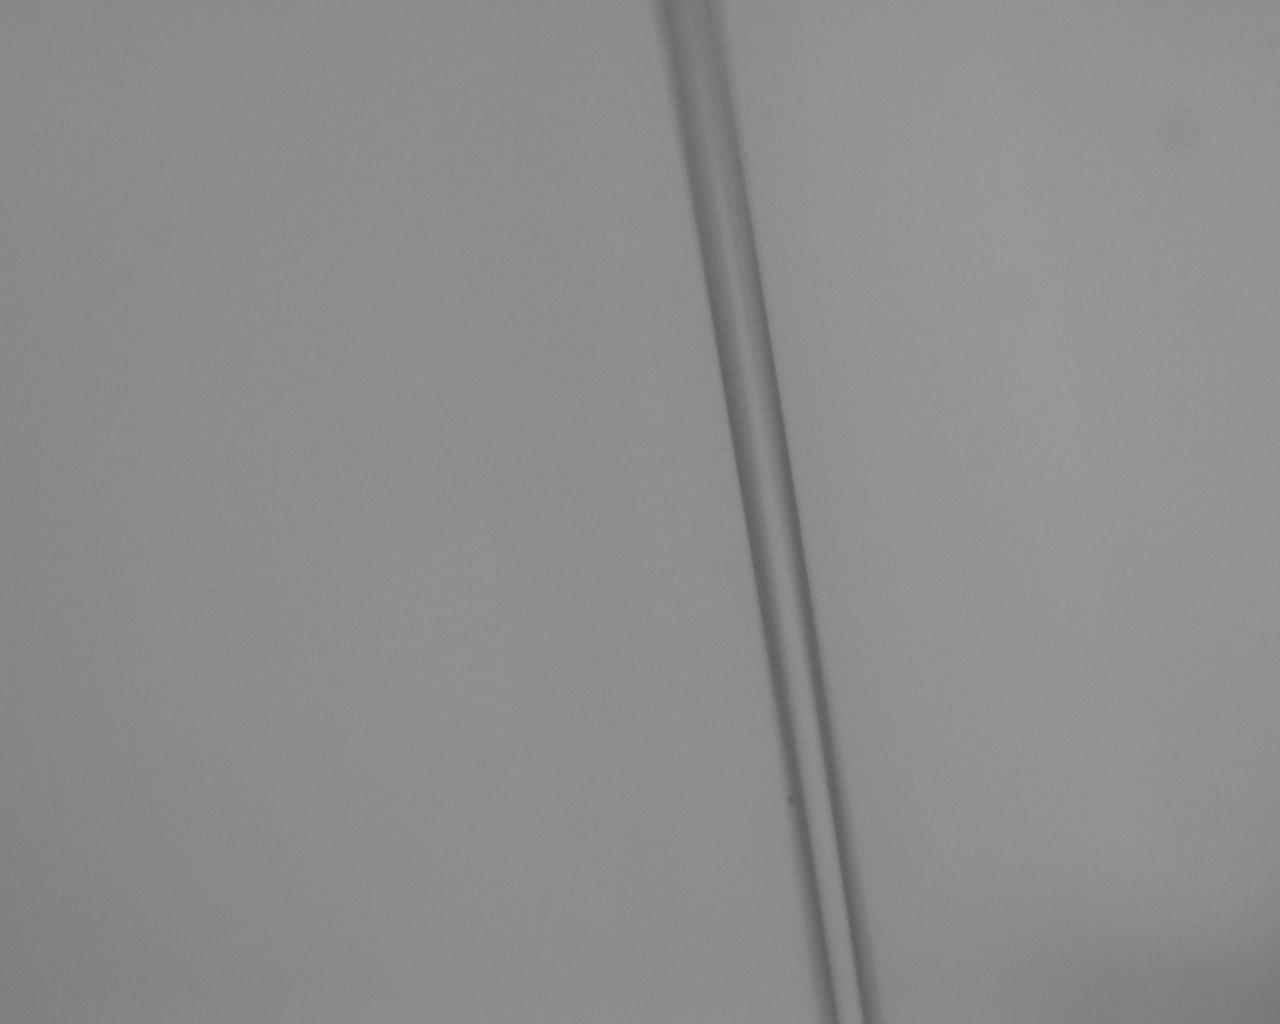fiber: (492, 481, 730, 1024), (972, 0, 1127, 481), (387, 0, 497, 481)
